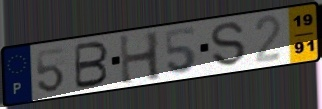2: (253, 14, 285, 66)
5: (164, 24, 199, 77), (34, 45, 68, 95)
B: (73, 40, 111, 91)
H: (117, 29, 163, 87)
S: (209, 20, 248, 68)
